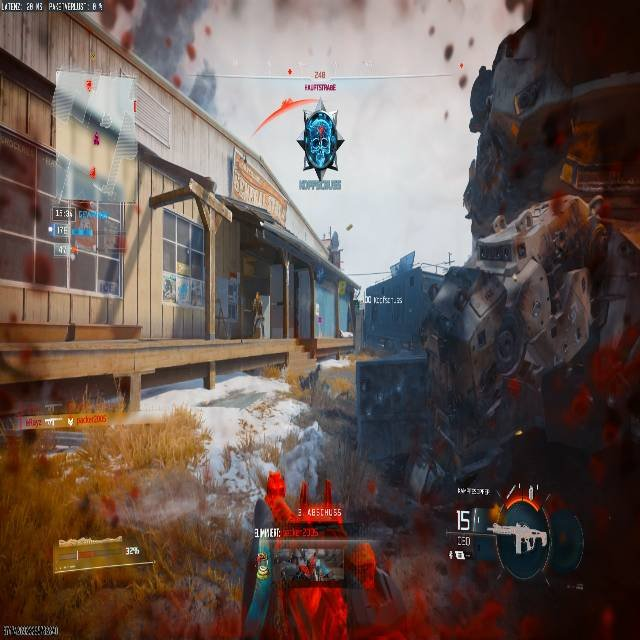player: (296, 110, 343, 179)
